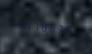eight: (41, 19, 48, 34), (65, 21, 72, 36), (49, 20, 56, 34)
five: (17, 17, 24, 32)
one: (25, 18, 32, 32)
seven: (33, 18, 40, 33), (57, 21, 64, 35)
